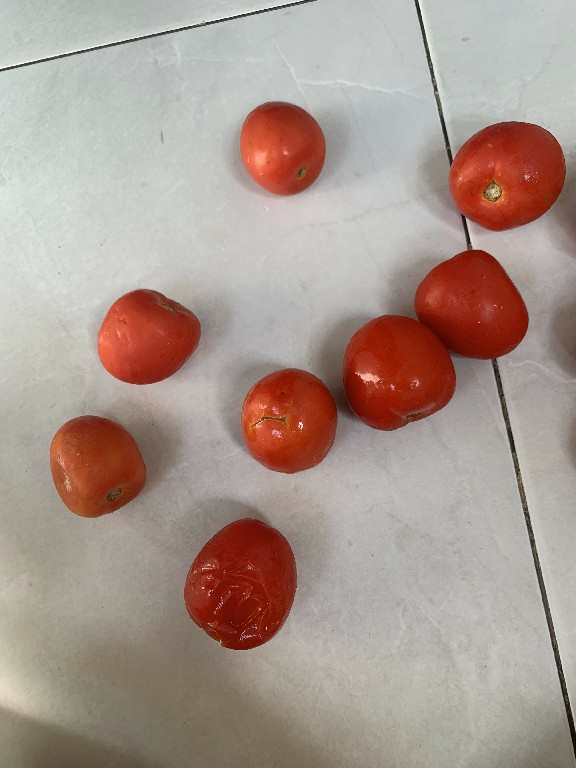NG: (177, 515, 301, 653), (45, 406, 147, 523), (239, 365, 337, 480)
OK: (447, 111, 569, 229), (342, 313, 457, 435), (410, 244, 530, 358), (88, 286, 202, 387), (238, 94, 328, 198)
